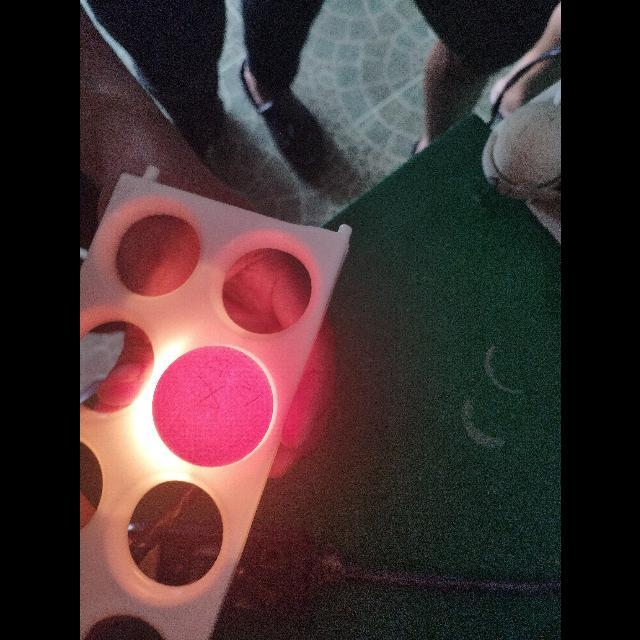Infertile: (155, 348, 267, 458)
